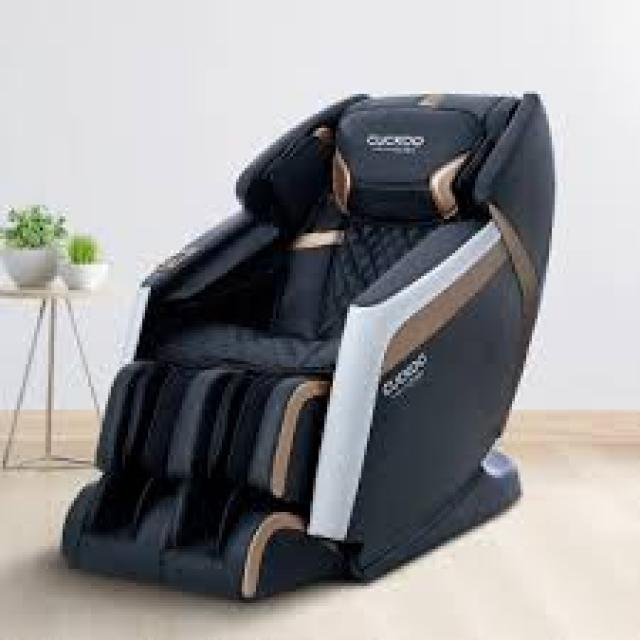chair: (55, 58, 563, 630)
